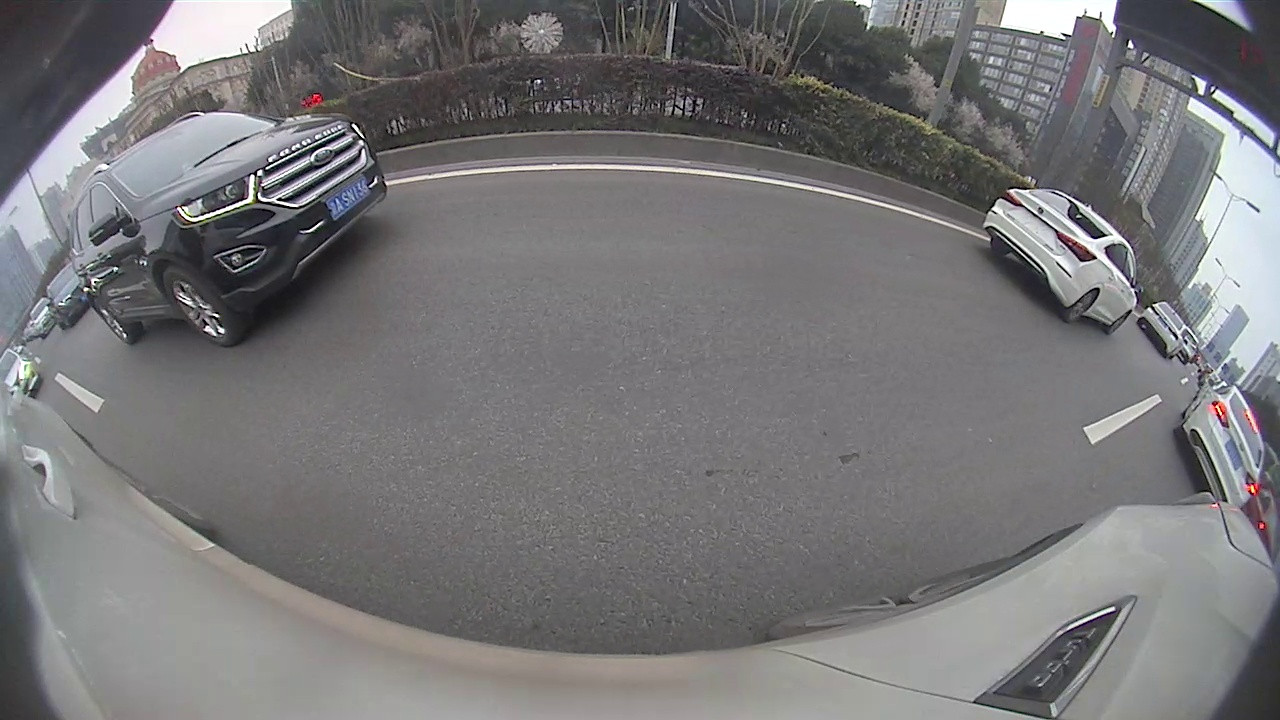car: (69, 111, 388, 347), (982, 187, 1145, 338), (1170, 378, 1265, 510), (1136, 300, 1188, 362), (43, 266, 91, 330)
front: (164, 266, 237, 345)
rear: (94, 299, 129, 346), (1065, 291, 1099, 323)
